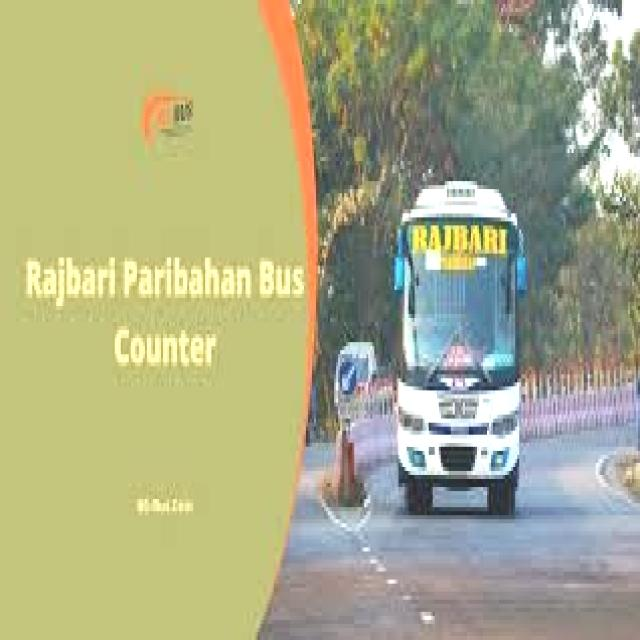bus: (395, 160, 530, 533)
